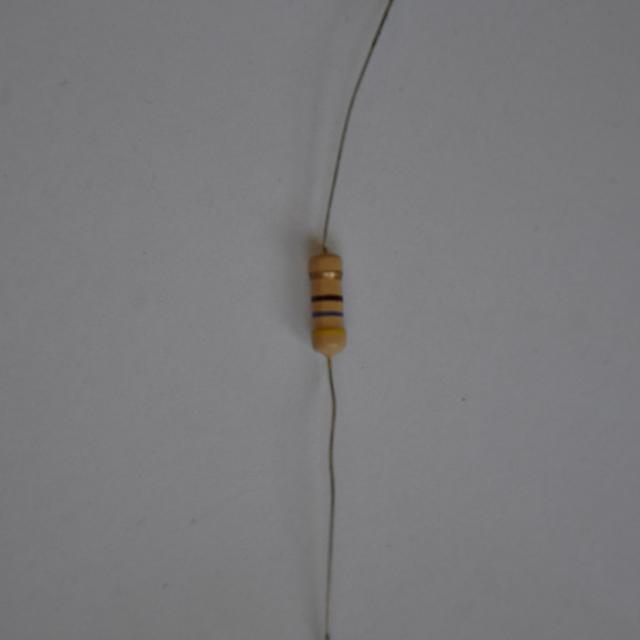brown: (313, 293, 341, 301)
gold: (311, 269, 341, 276)
resistor: (299, 232, 354, 367)
violet: (315, 310, 342, 316)
yellow: (314, 325, 343, 332)
